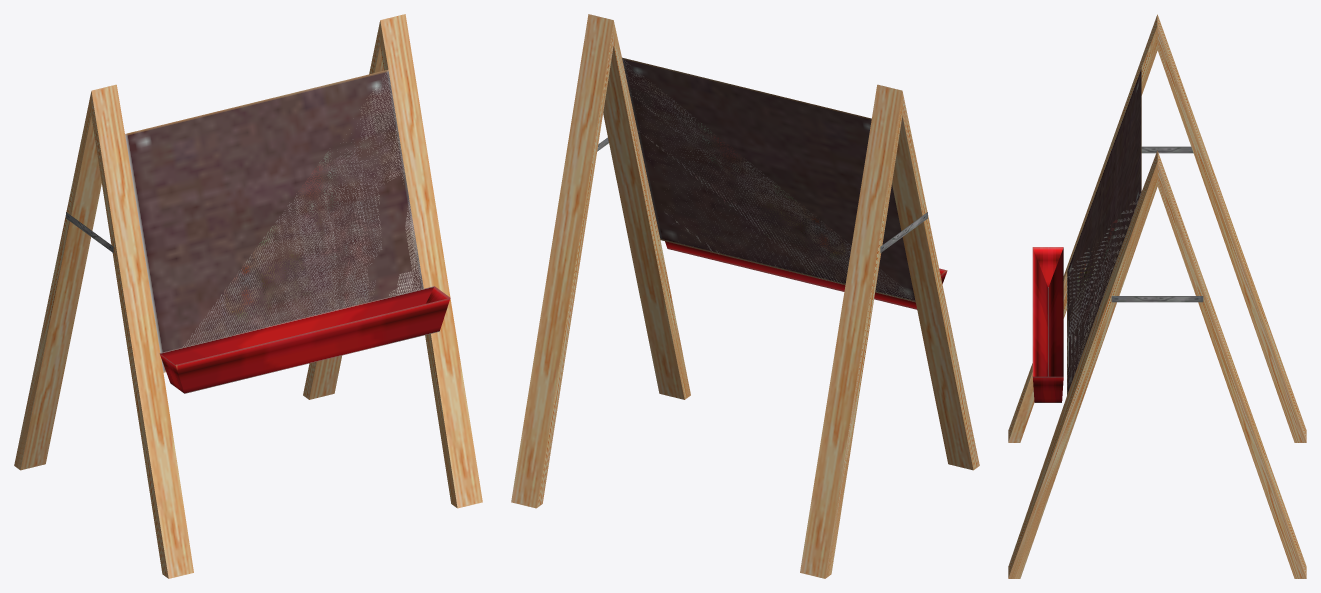
The model's file is easel.fbx.
3 renders of one model, left to right at view 1: azimuth 30°, elevation 25°; view 2: azimuth 150°, elevation 25°; view 3: azimuth 270°, elevation 25°, orthographic. The views are drawn at different scales.
Parts seen in each view (by area): view 1: mesh_0; view 2: mesh_0; view 3: mesh_0.
Part boxes in pixels (bbox=[...]): mesh_0: bbox=[14, 14, 482, 578]; mesh_0: bbox=[511, 14, 979, 578]; mesh_0: bbox=[1008, 14, 1306, 578].
Bounding box in the file's own units: 76.68 × 100 × 64.91.
Materials: 1 (1 with a texture image).
